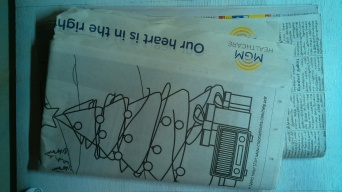p: (39, 5, 329, 190)
